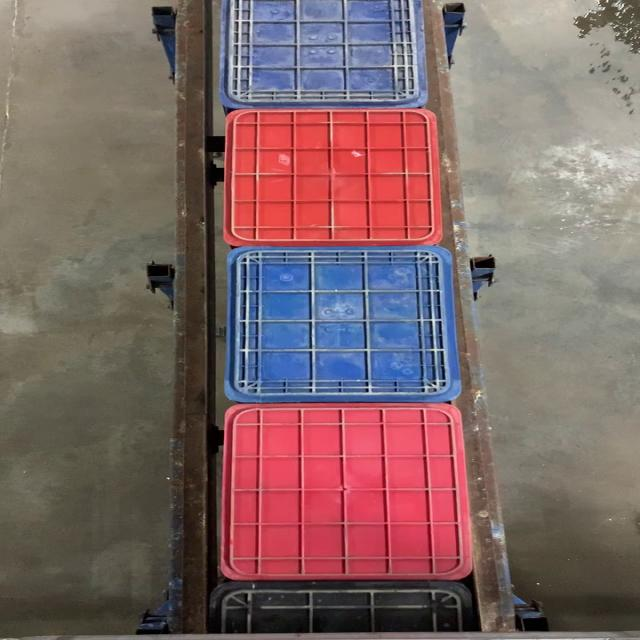Box: (219, 403, 479, 579), (224, 247, 465, 403), (223, 106, 443, 246)
